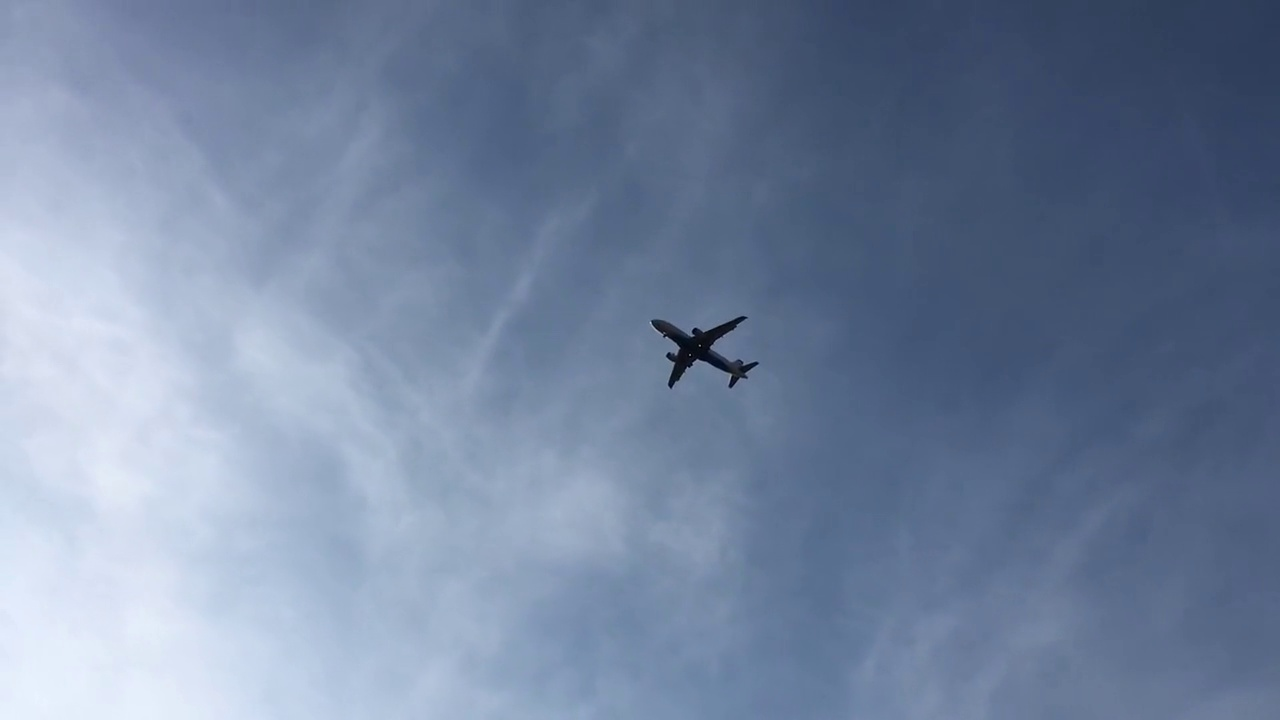plane: (648, 312, 757, 389)
